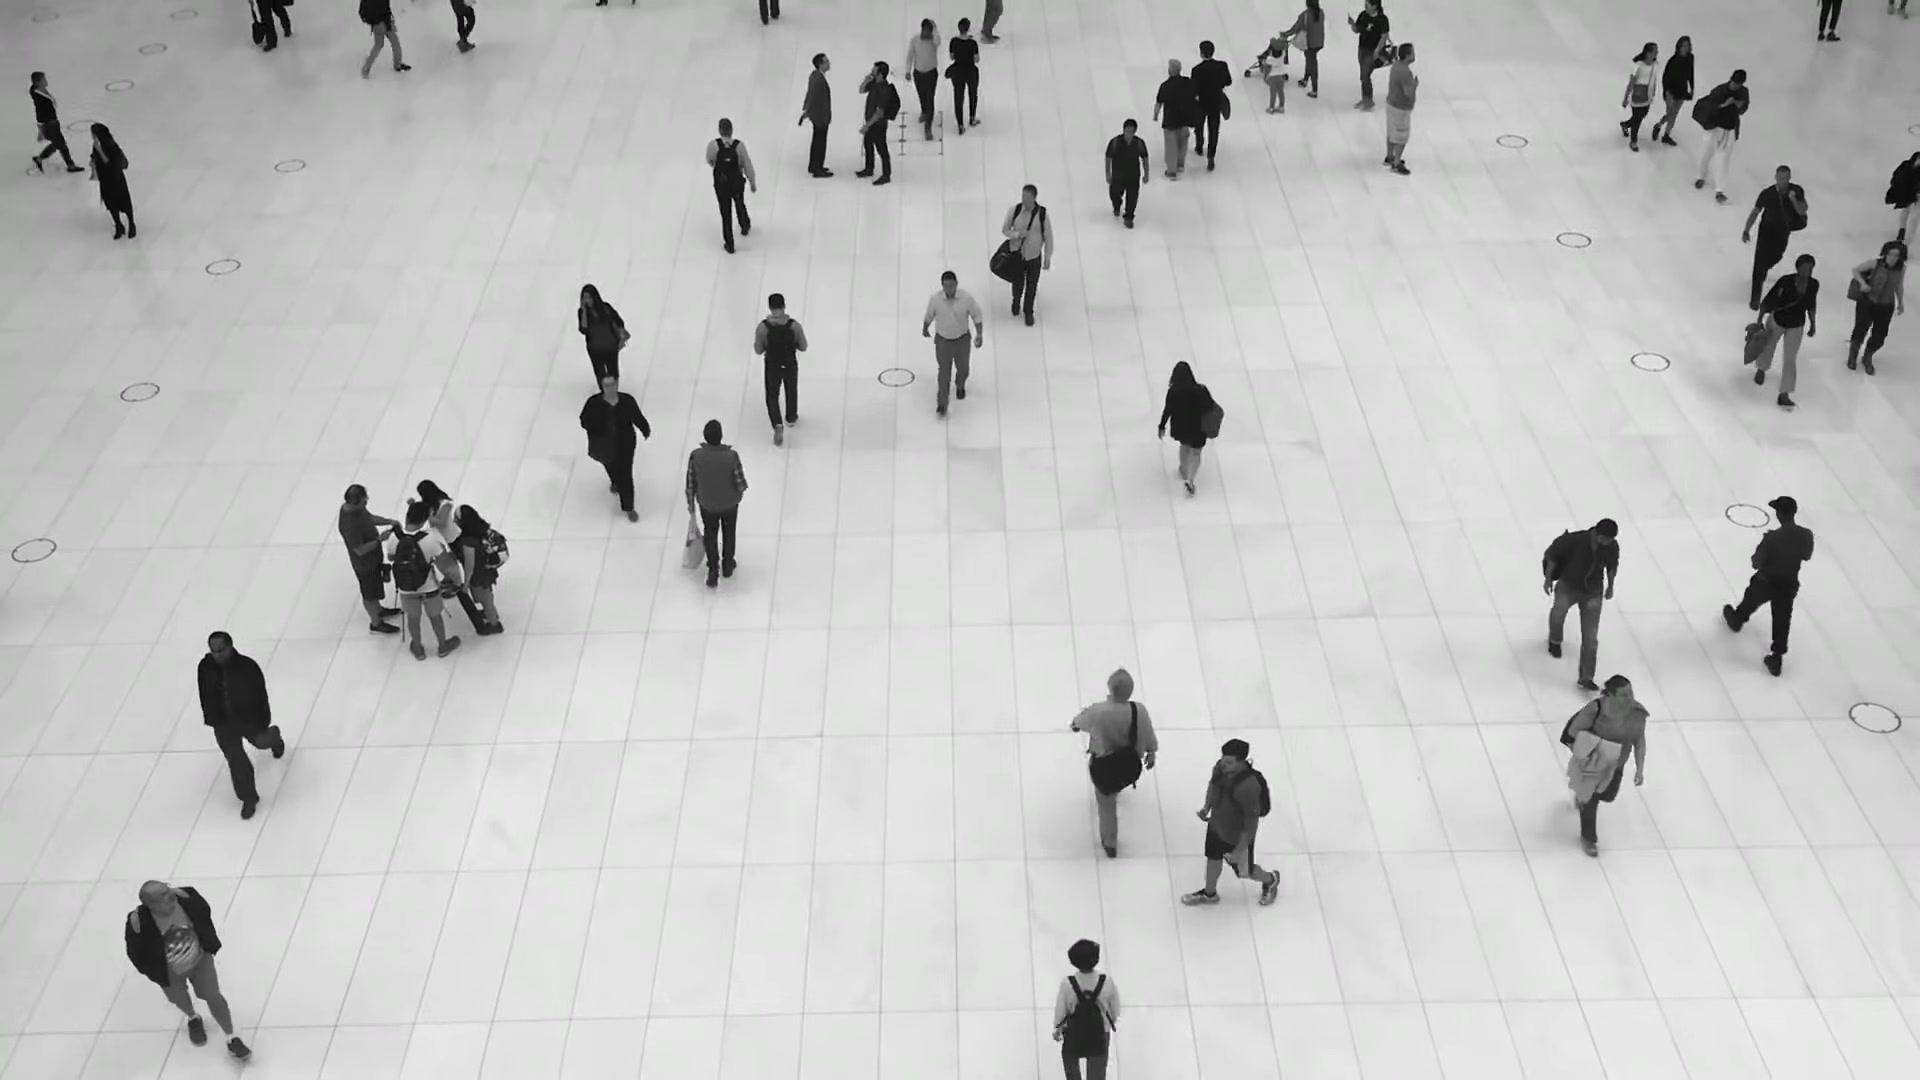person: (123, 878, 247, 1058), (1073, 670, 1159, 865), (1558, 672, 1650, 849), (197, 628, 283, 814), (1188, 737, 1277, 908), (1730, 492, 1815, 663), (1541, 516, 1620, 690), (384, 502, 460, 661), (682, 420, 747, 592), (578, 369, 650, 519), (1753, 249, 1822, 404), (1050, 942, 1123, 1080), (337, 483, 401, 634), (1742, 163, 1809, 300), (1844, 241, 1908, 380), (922, 268, 983, 413), (752, 293, 807, 442), (1160, 362, 1218, 499), (1000, 184, 1053, 327), (1694, 68, 1750, 200), (704, 117, 755, 254), (454, 503, 506, 635), (24, 72, 87, 175), (1153, 59, 1200, 181), (89, 120, 136, 240), (1190, 40, 1233, 170), (576, 282, 630, 387), (855, 60, 899, 185), (416, 478, 459, 598), (1102, 117, 1149, 229), (1382, 41, 1420, 175), (1649, 35, 1693, 147), (1619, 42, 1661, 151), (1347, 0, 1389, 110), (904, 15, 942, 137), (798, 52, 834, 178), (1285, 0, 1324, 98), (948, 18, 980, 136), (1263, 36, 1287, 113)
